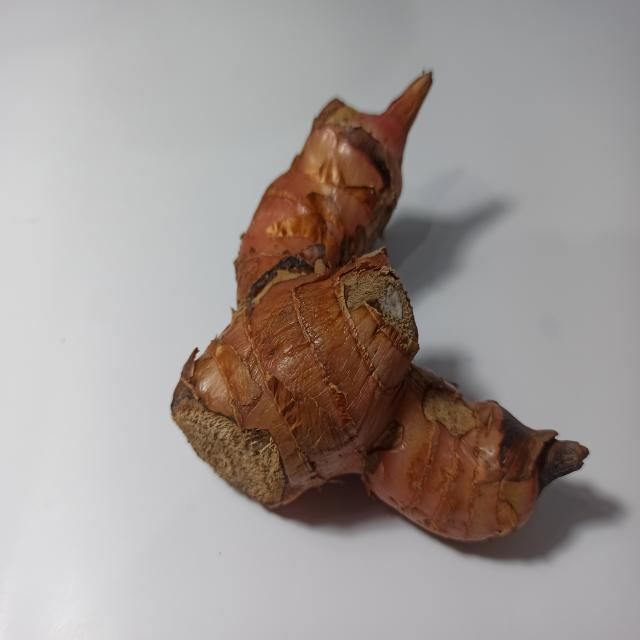ginger: (167, 92, 566, 530)
